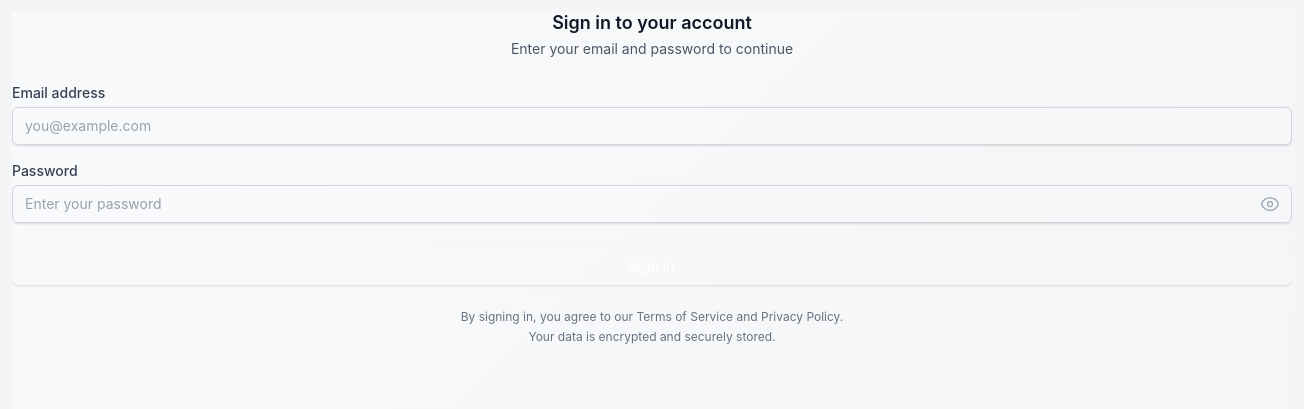
Test: PasswordLoginForm › Edge Cases › should clear error when user re-validates with valid input
// Trigger error
Step 1. Type "invalid" into the field with test id "email-input" → (652, 126), box [12, 106, 1292, 144]
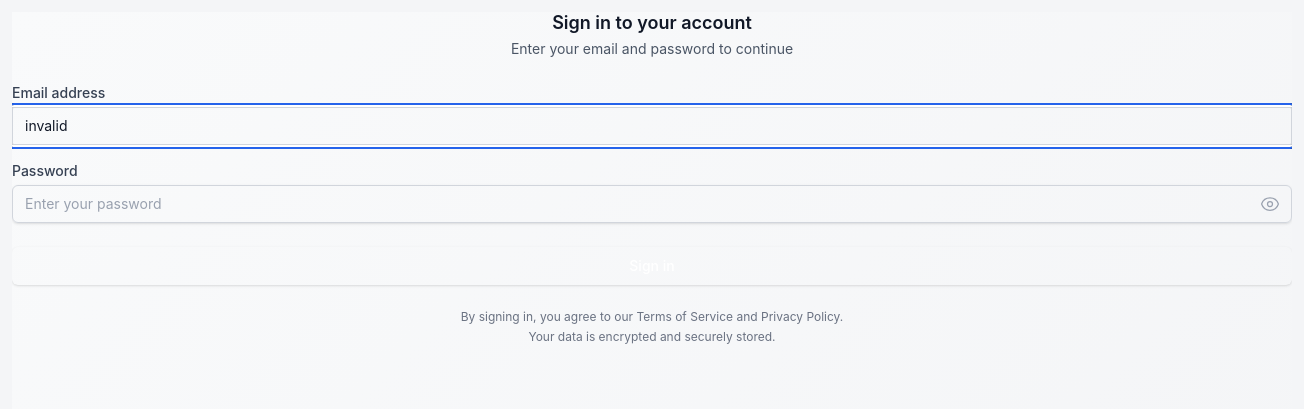
Step 2. Press Tab
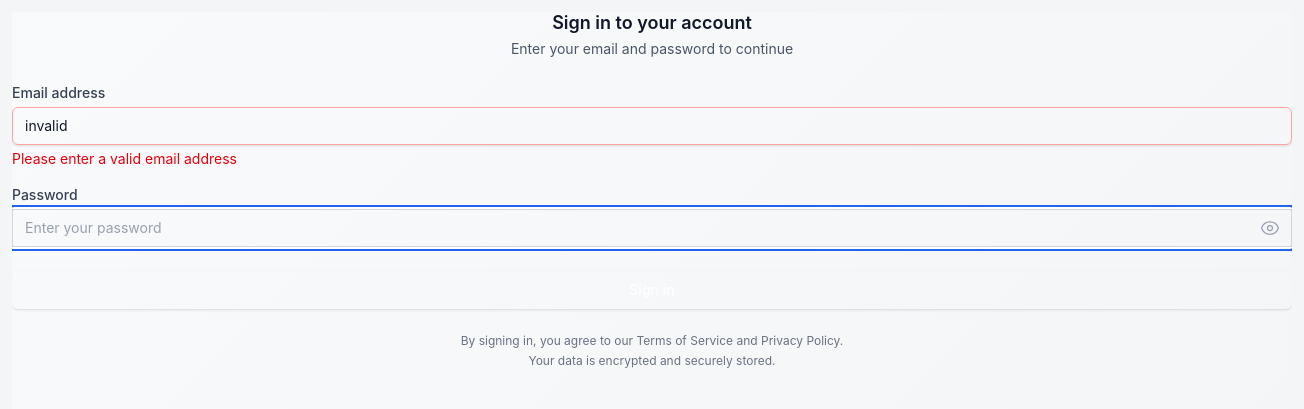
Now the text "Please enter a valid email address" is shown, box [12, 150, 237, 166]
// Clear and type valid email, then trigger blur validation
Step 3. Replace the text in the field with test id "email-input" with "user@example.com" → (652, 126), box [12, 106, 1292, 144]
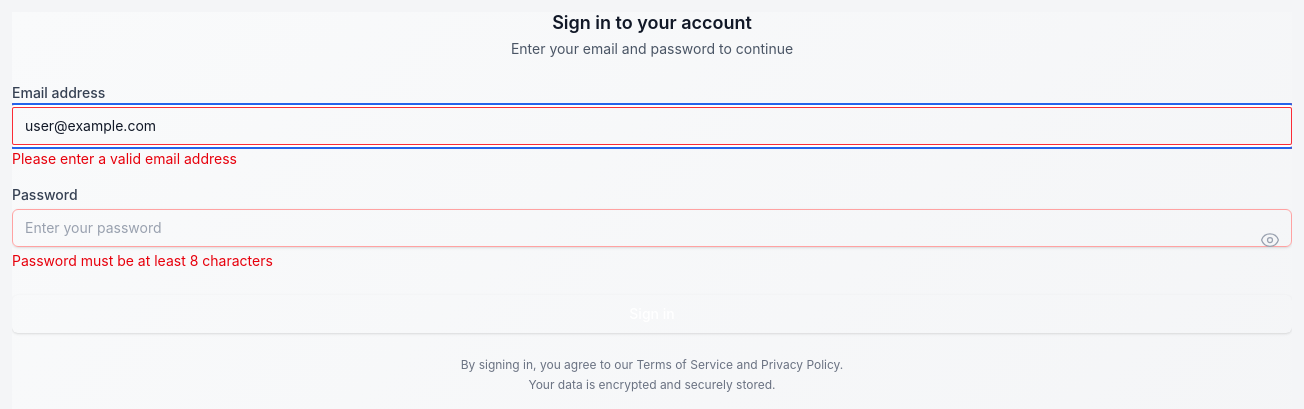
Step 4. Press Tab
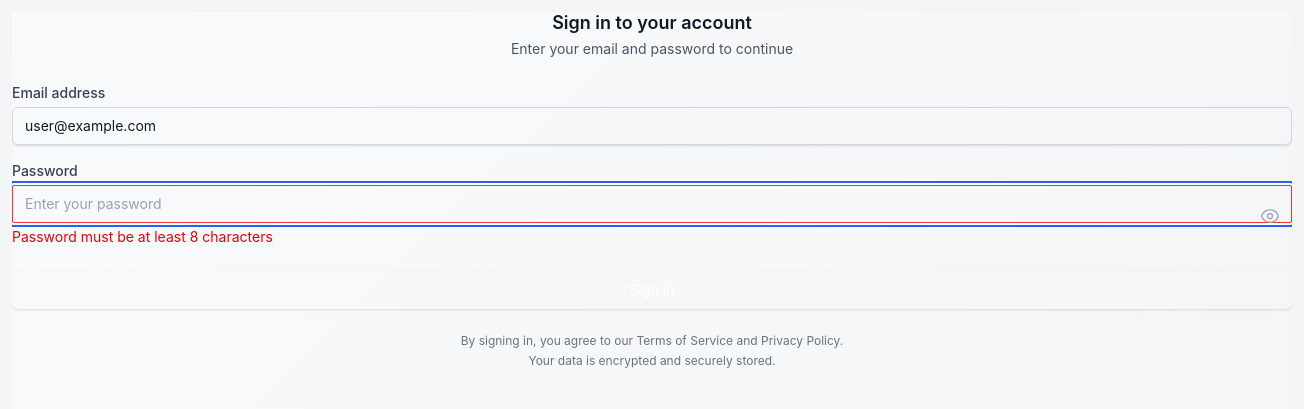
Now the text "valid email" is gone
